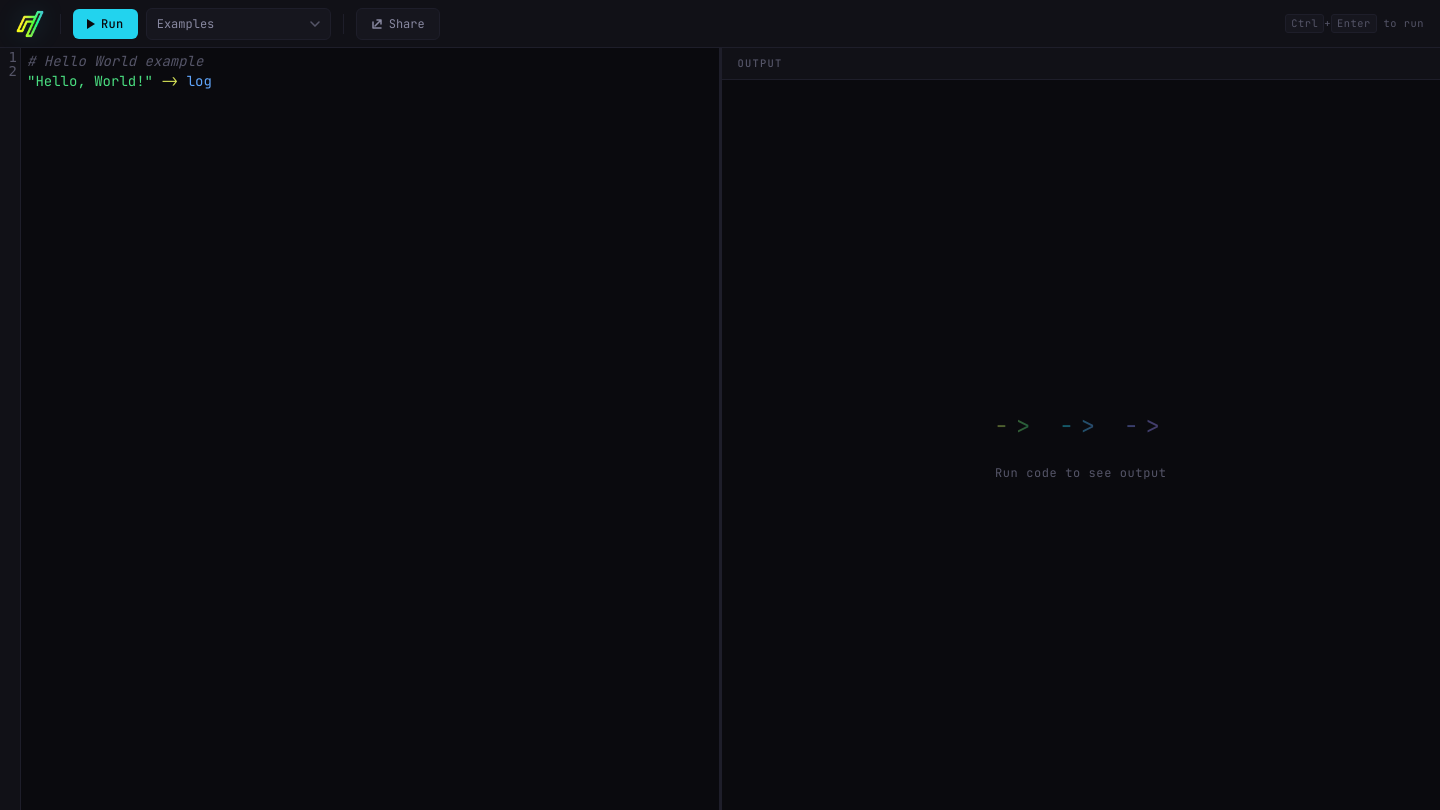
Scenario: App › error handling › error with line location highlights gutter line in editor
The width and height of the screenshot is (1440, 810).
What coordinates should you click on to do the following:
click the button with class "toolbar-run"
I would click on:
 (105, 24)
Its box is [73, 8, 138, 38].
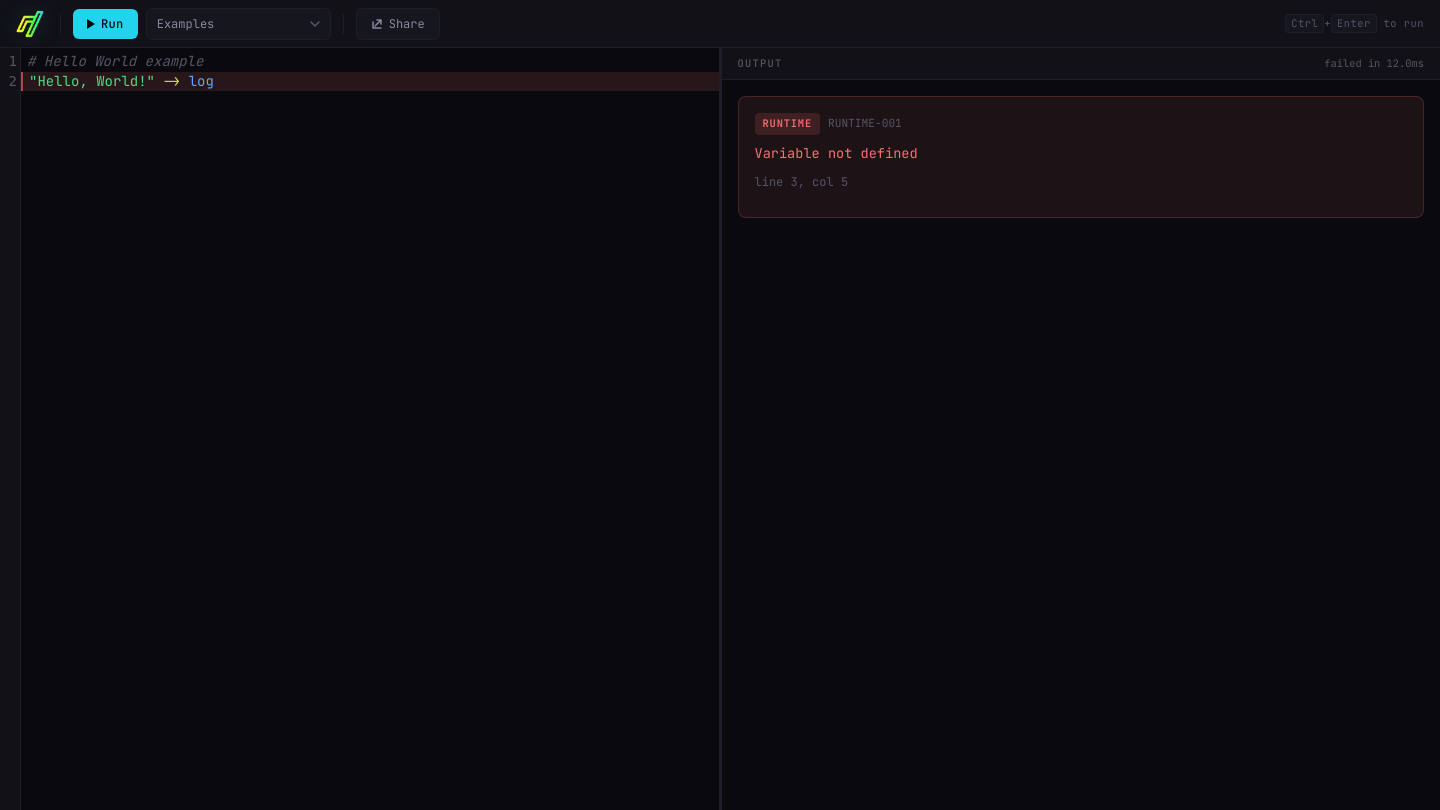
expect the element with class "editor-container" is shown: met, box [0, 48, 718, 809]
expect the message with class "output-error" shows "line 3": met, box [738, 96, 1424, 218]
